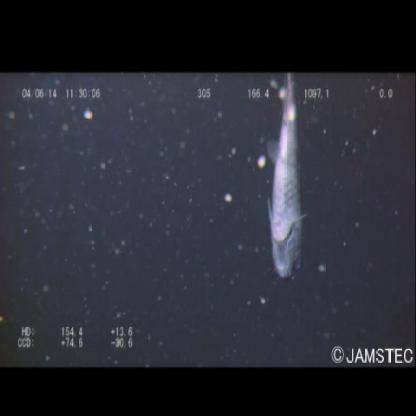Bio: (264, 74, 310, 285)
